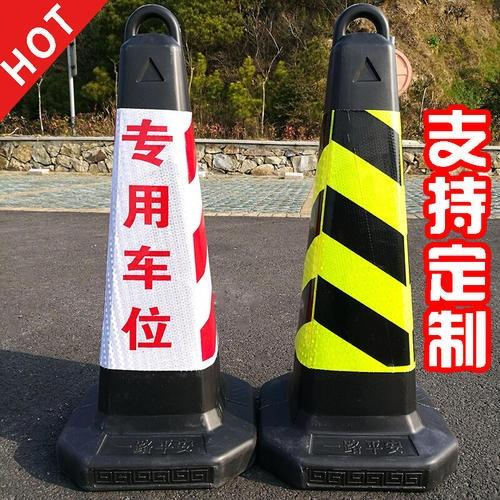cone_barrel: (259, 17, 442, 477), (63, 17, 240, 465)
